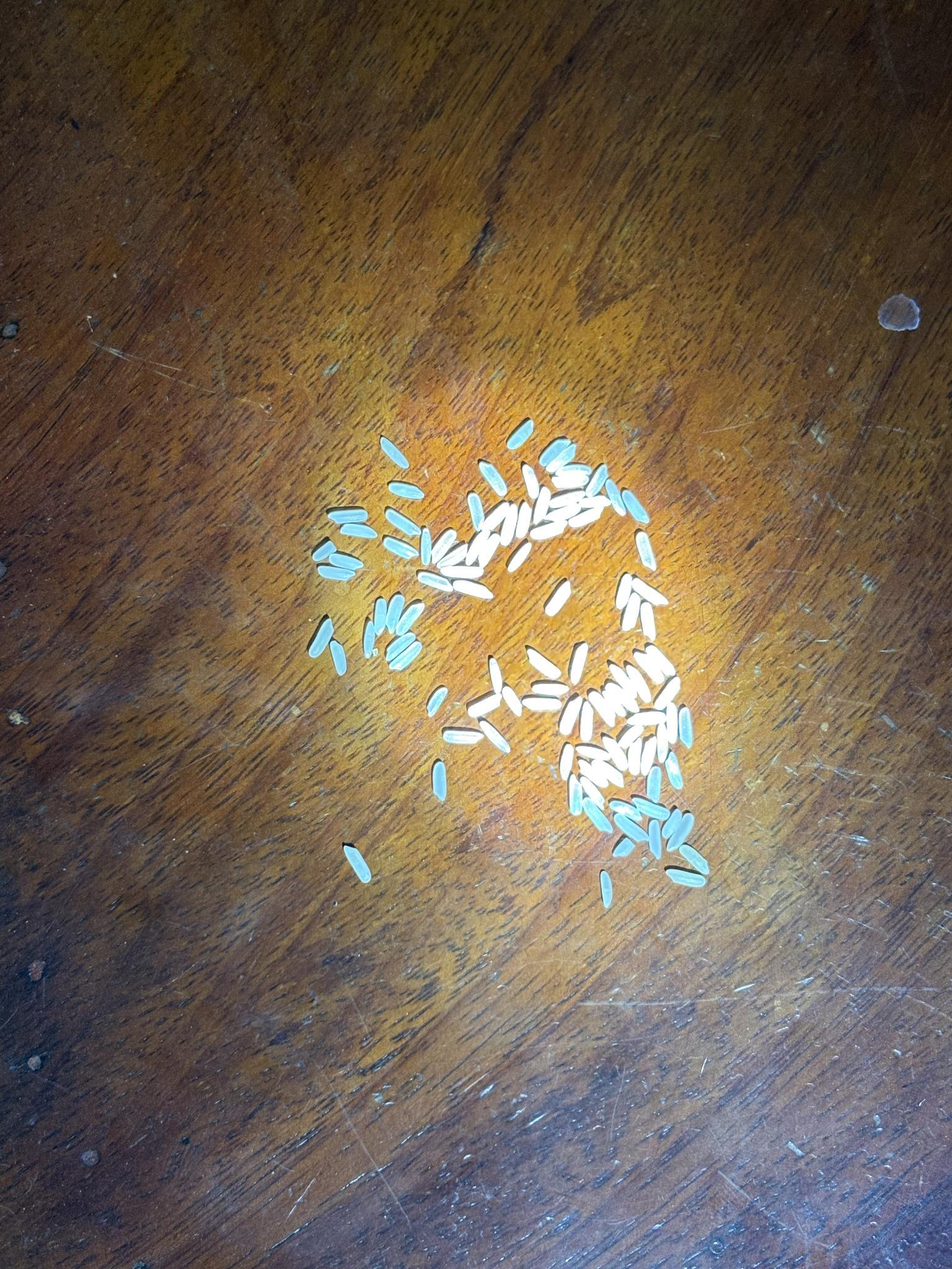Rice-th-y-nh: (527, 649, 561, 679), (583, 798, 612, 832), (344, 846, 371, 882), (668, 815, 694, 852), (480, 721, 510, 753), (610, 664, 637, 699), (395, 604, 425, 635), (480, 462, 507, 496), (545, 581, 571, 616), (633, 579, 668, 605), (627, 665, 652, 701), (635, 652, 664, 683), (615, 814, 647, 842), (309, 620, 333, 657), (647, 645, 676, 675), (381, 437, 409, 468), (654, 677, 681, 709), (386, 510, 419, 536), (623, 490, 649, 523), (589, 692, 615, 725), (560, 697, 583, 734), (680, 845, 709, 874), (593, 760, 624, 787), (546, 445, 577, 472), (390, 644, 422, 670), (431, 530, 456, 563), (603, 737, 628, 770), (539, 439, 569, 466), (581, 777, 606, 809), (386, 633, 415, 660), (579, 761, 608, 788), (507, 420, 533, 450), (633, 798, 669, 819), (500, 503, 518, 545), (636, 532, 656, 569), (483, 503, 510, 530), (454, 581, 494, 599), (586, 465, 608, 497), (469, 695, 501, 717), (610, 800, 642, 822), (532, 487, 551, 524), (570, 644, 588, 683), (605, 480, 625, 515), (466, 531, 487, 564), (622, 594, 641, 630), (667, 869, 705, 887), (418, 572, 452, 592), (614, 686, 639, 713), (508, 543, 531, 572), (386, 595, 404, 632), (479, 534, 500, 565), (665, 753, 683, 789), (640, 737, 657, 775), (569, 508, 603, 527), (384, 538, 416, 558), (438, 545, 467, 567), (522, 464, 540, 498), (427, 687, 447, 717), (618, 725, 644, 748), (441, 565, 483, 579), (523, 697, 562, 712), (433, 762, 448, 801), (662, 809, 682, 838), (615, 575, 632, 609), (530, 523, 564, 540), (546, 504, 580, 521), (646, 766, 662, 802), (679, 706, 693, 747), (389, 483, 424, 499), (549, 492, 584, 508), (568, 775, 582, 815), (641, 602, 656, 639), (503, 686, 522, 715), (580, 702, 594, 741), (330, 641, 346, 675), (629, 711, 665, 726), (648, 820, 662, 858), (559, 744, 574, 779), (516, 503, 531, 538), (666, 703, 679, 743), (628, 738, 642, 775), (341, 524, 377, 538), (532, 683, 568, 697), (330, 554, 363, 569), (577, 745, 610, 760), (329, 510, 367, 523), (469, 494, 483, 529), (318, 567, 355, 580), (656, 725, 669, 762), (313, 542, 336, 562), (443, 731, 481, 743), (489, 658, 502, 693), (374, 599, 387, 634), (552, 476, 587, 489), (363, 622, 375, 658), (609, 665, 629, 686), (420, 529, 432, 564), (600, 872, 612, 907), (580, 496, 610, 509), (614, 839, 634, 857), (562, 463, 591, 475), (610, 696, 626, 717)
